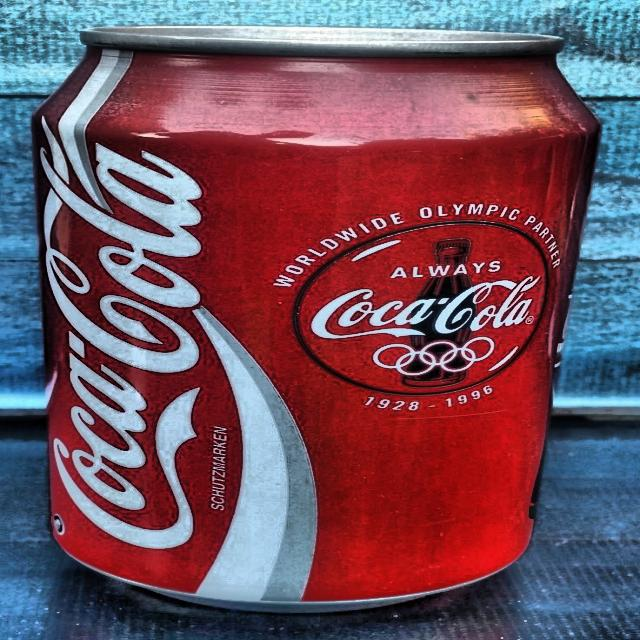Cans: (13, 16, 624, 613)
